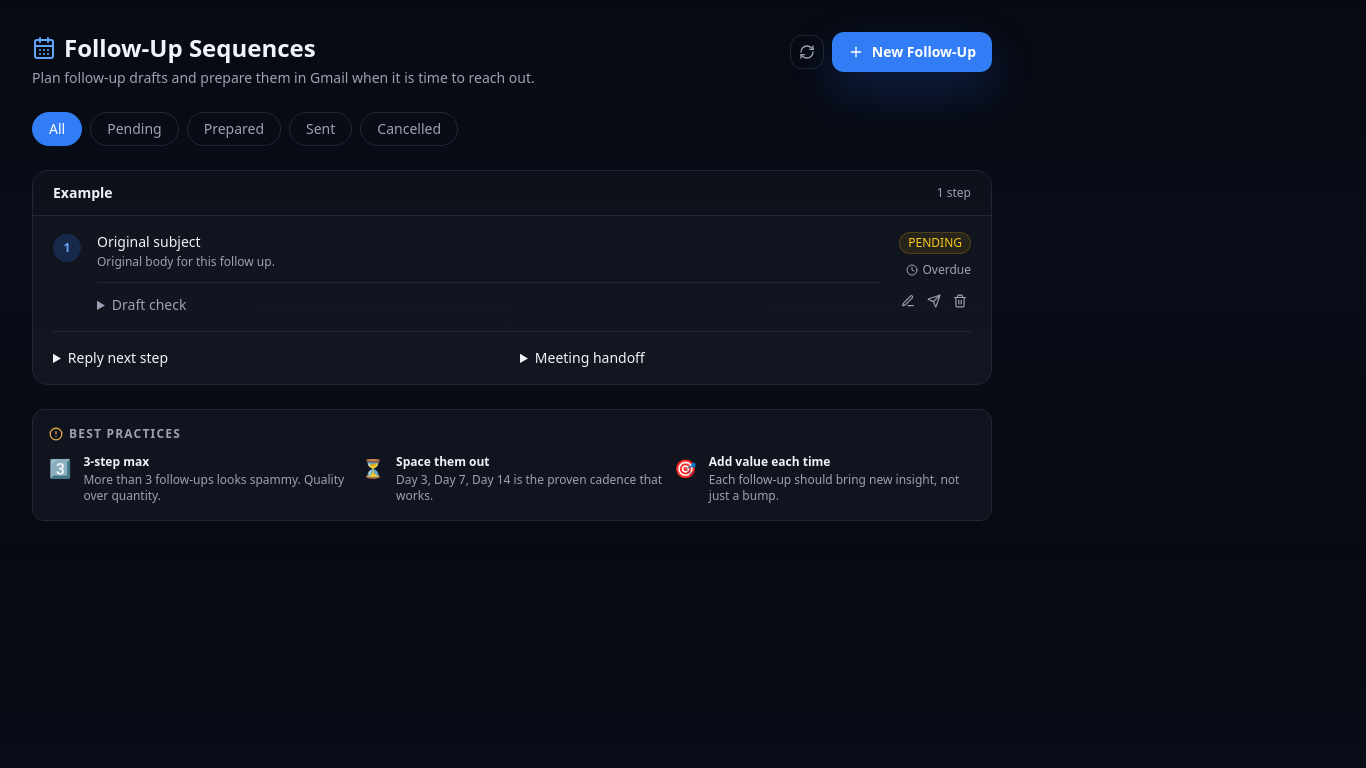
marks a draft prepared only after its status is saved and never sends email
The width and height of the screenshot is (1366, 768).
Click the button named "Prepare in Gmail": point(934, 301) [923,290,945,312]
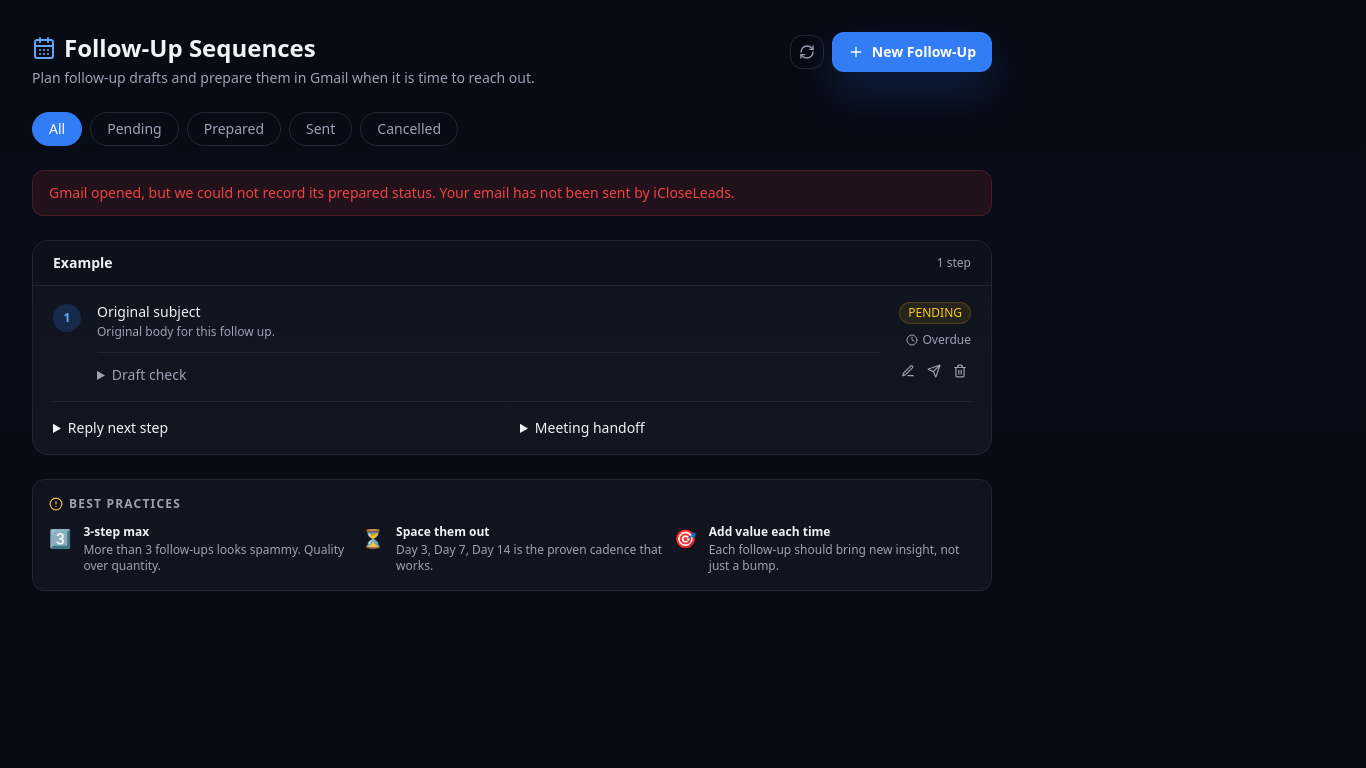
Expected: the text "PENDING" is shown, [899,302,971,324]
Result: the message shows "could not record" at [49,183,735,202]
